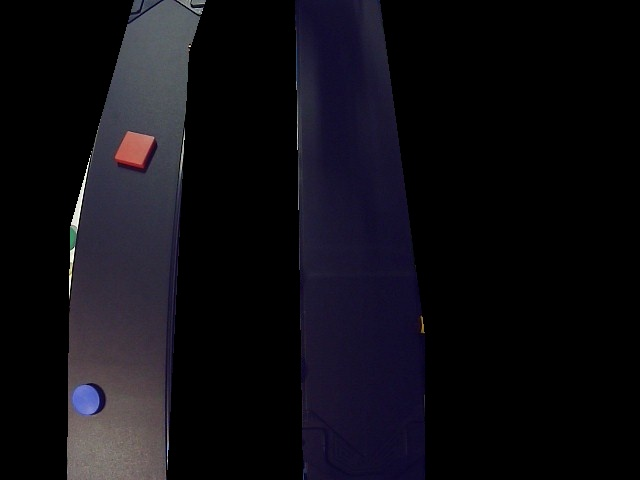Blue_Circle: (69, 382, 107, 417)
Red_Square: (113, 131, 159, 170)
